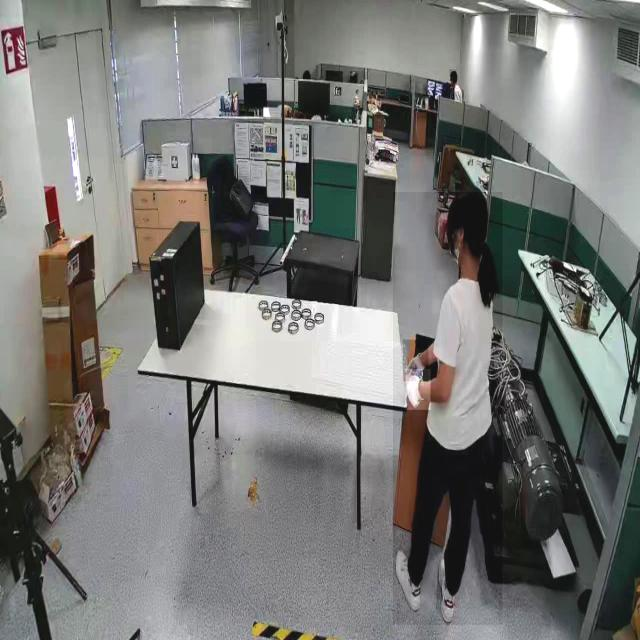hand_glove: (403, 339, 429, 382), (406, 369, 430, 410)
head_nohelmet: (450, 185, 488, 218), (449, 70, 457, 78)
person: (393, 192, 503, 626)
shoes: (391, 544, 423, 615), (432, 553, 458, 627)
